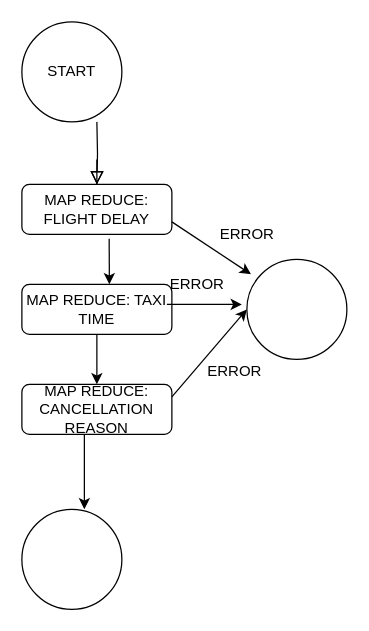
This 369x631 diagram has some shape labels left out. The shapes that lost their labels are listed below. From the top down, each one's centre as x and y in pixels, then its label:
(296,308): TERMINATE
(71,558): END
